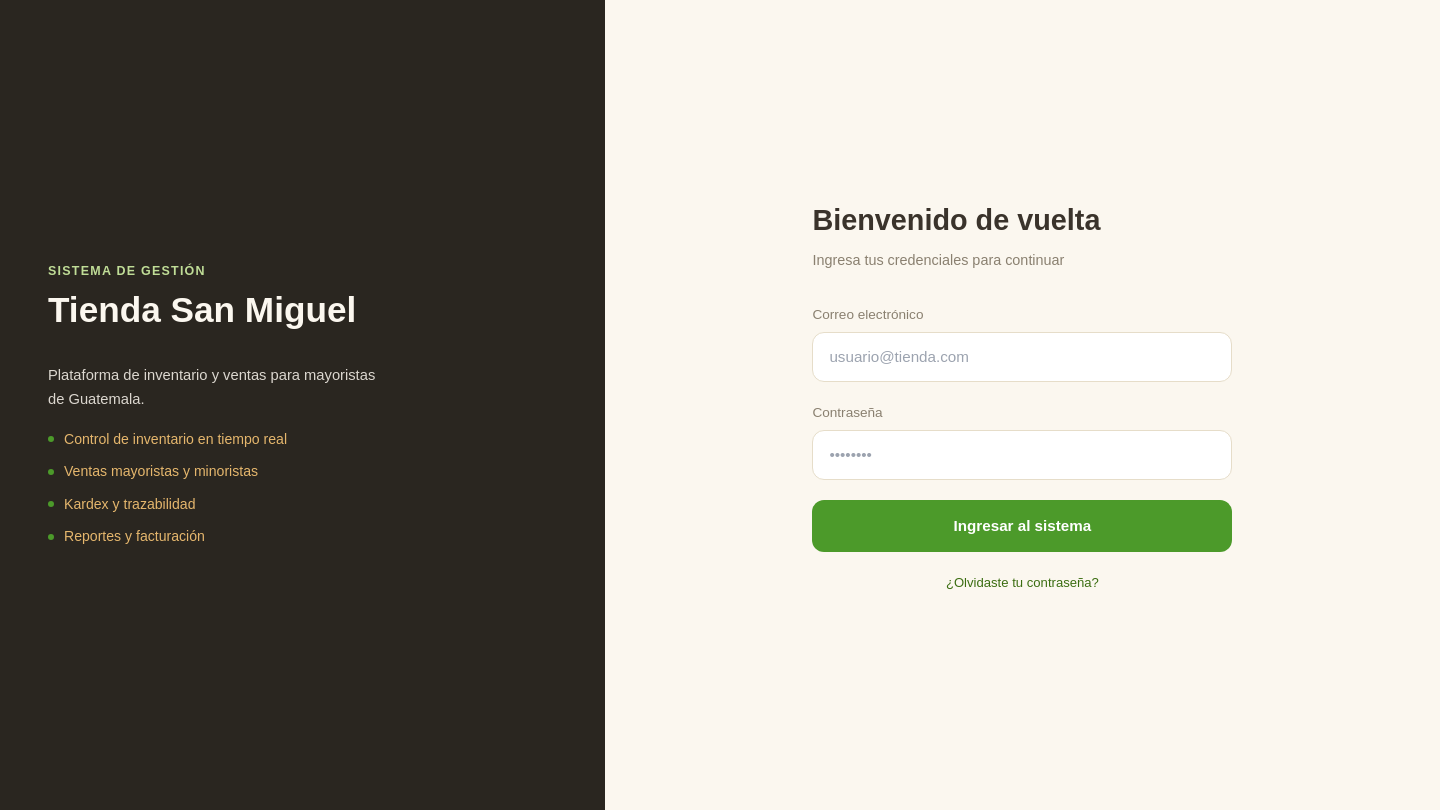
Test case: LoginPage › shows error on failed login
Type "test@test.com" into the field with placeholder "usuario@tienda.com". click: (1022, 357)
box: left=812, top=332, right=1232, bottom=382
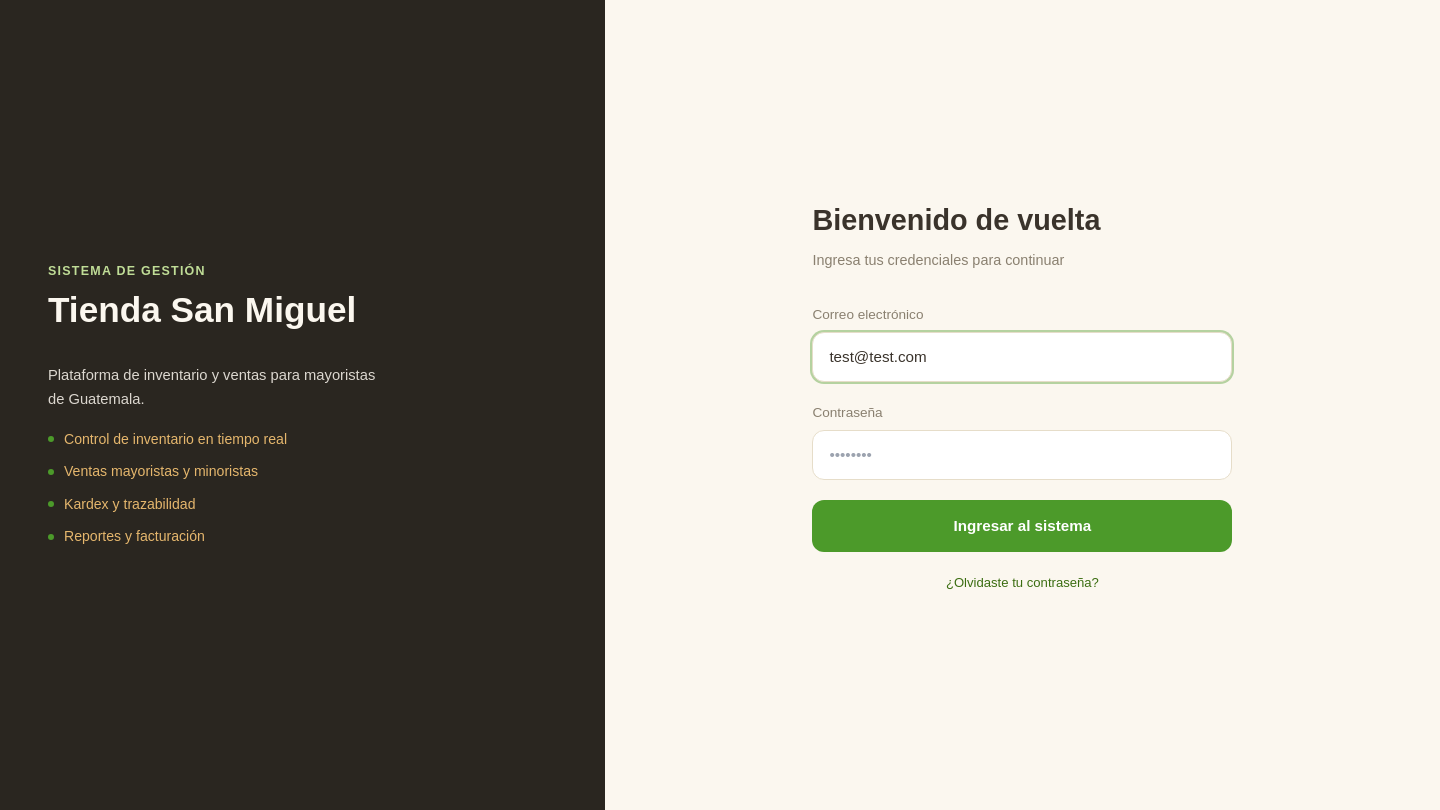
Type "wrong" into the password field with placeholder "••••••••". click: (1022, 455)
box: left=812, top=430, right=1232, bottom=480
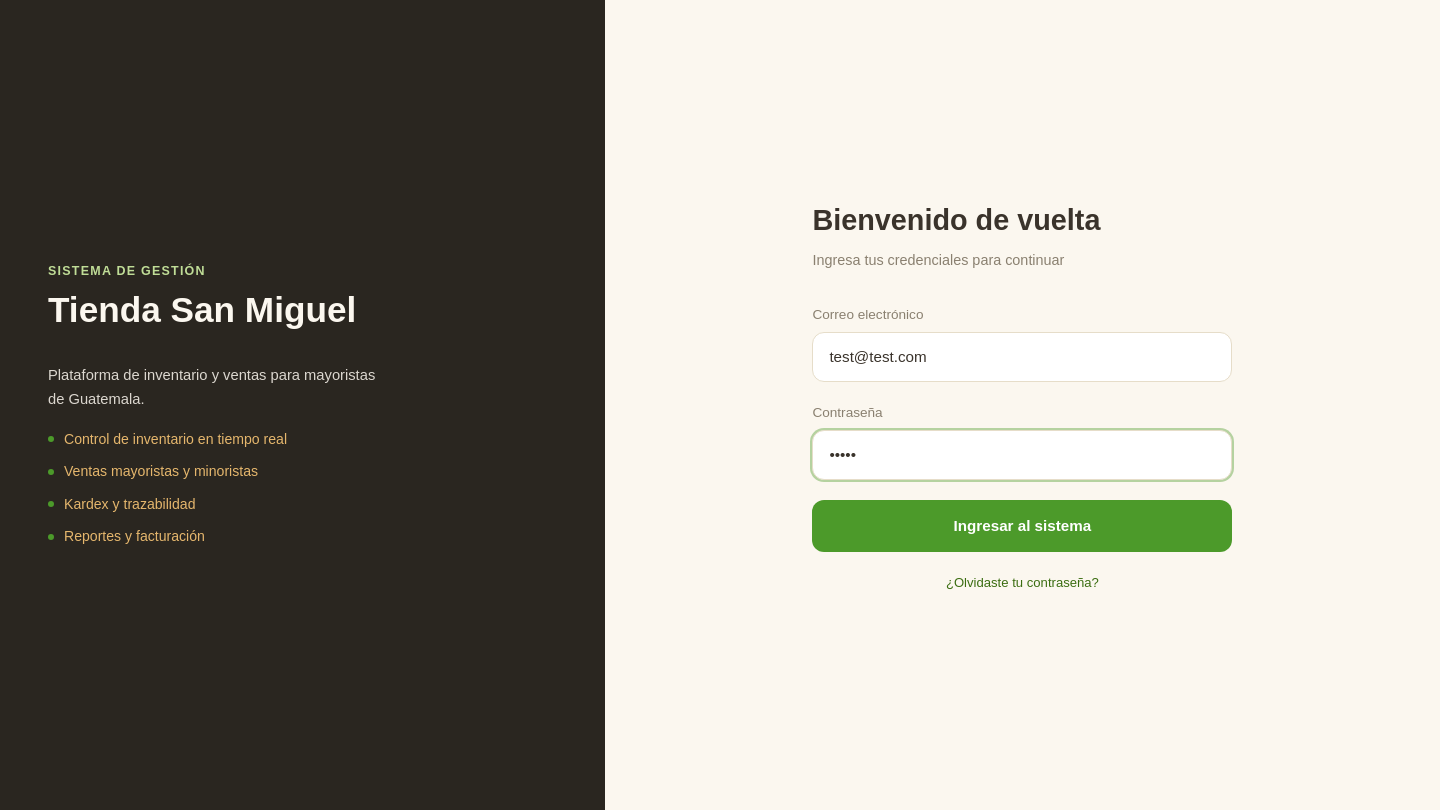
Click the button "Ingresar al sistema". click: (1022, 526)
box: left=812, top=500, right=1232, bottom=552
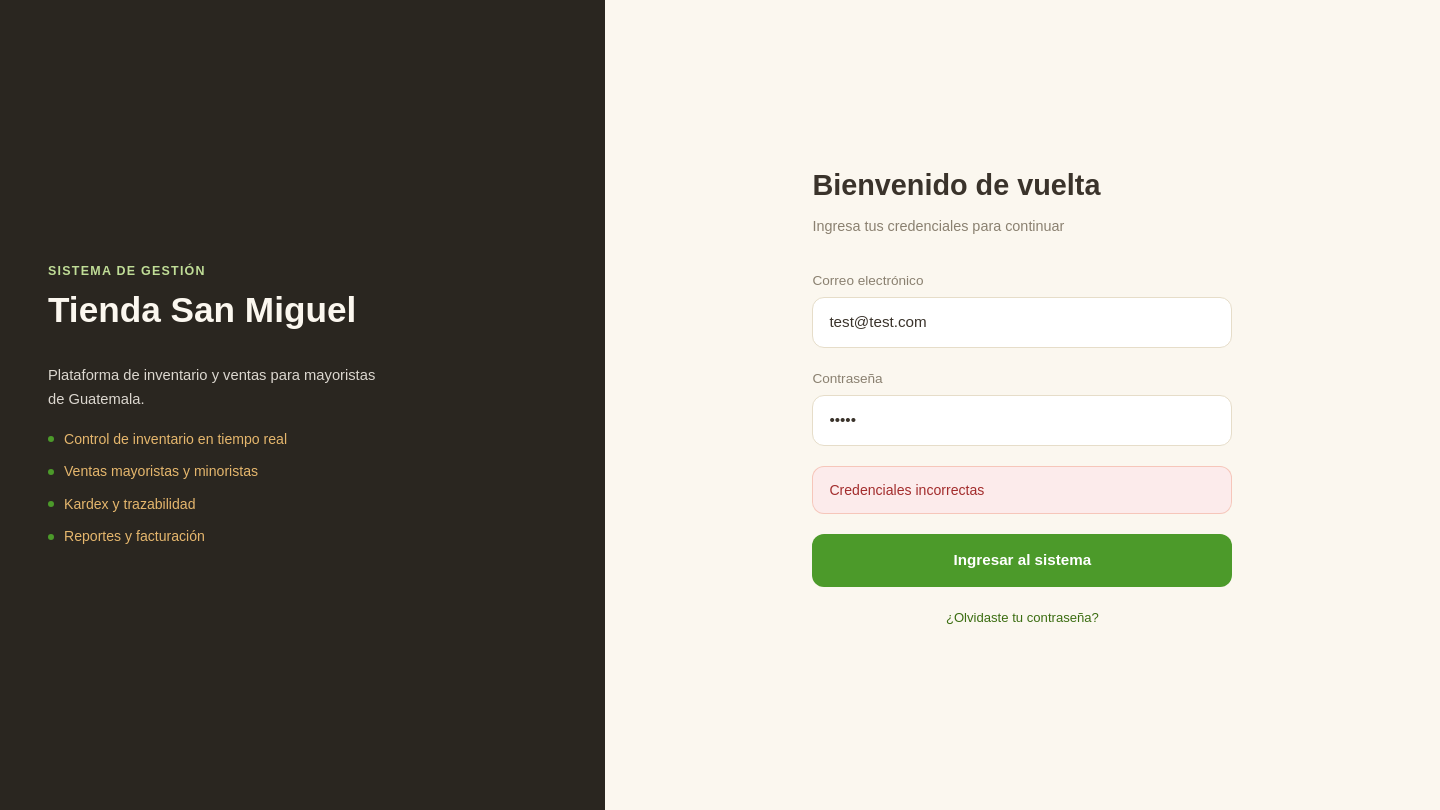
Expected: the text "Credenciales incorrectas" is shown, left=812, top=466, right=1232, bottom=514
